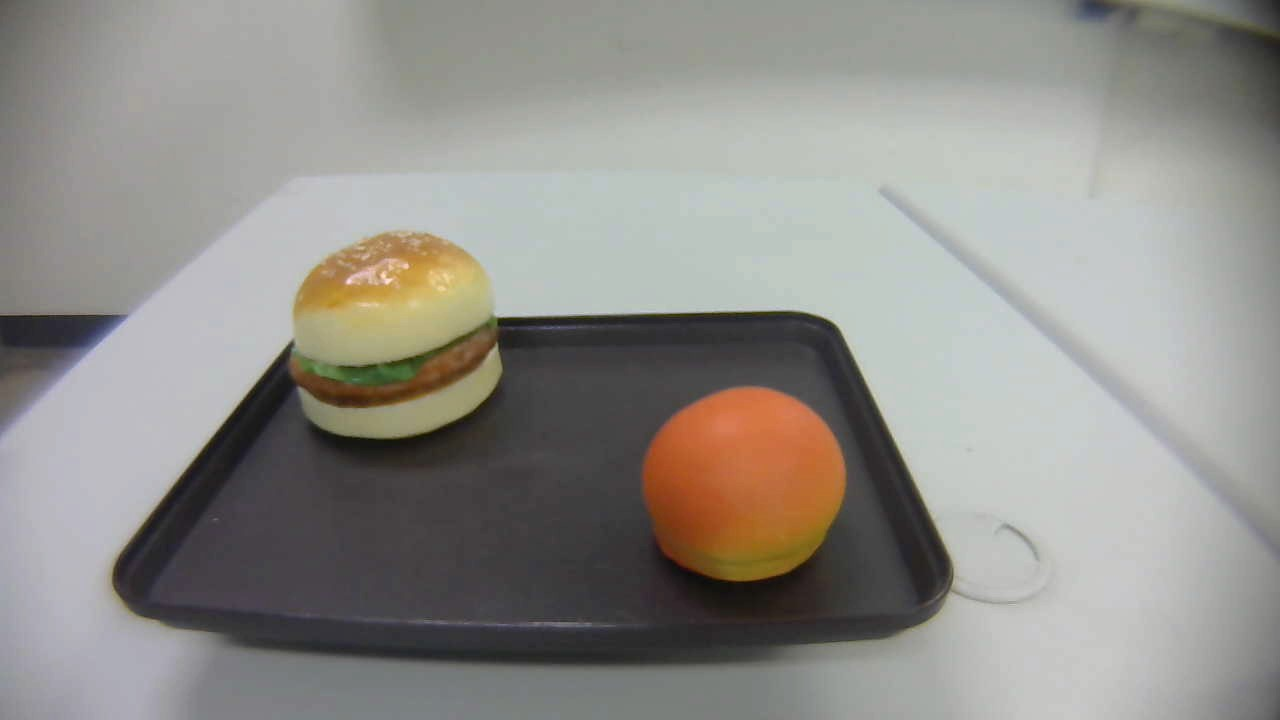bun: (643, 385, 846, 581)
hamburger: (286, 229, 504, 441)
